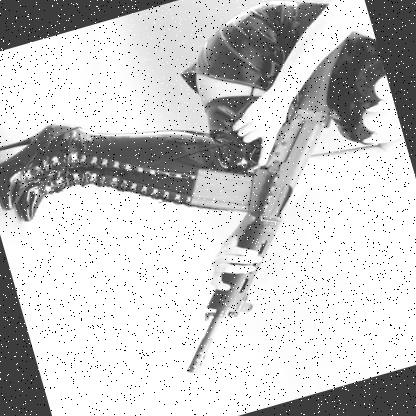rifle: (104, 42, 412, 376)
